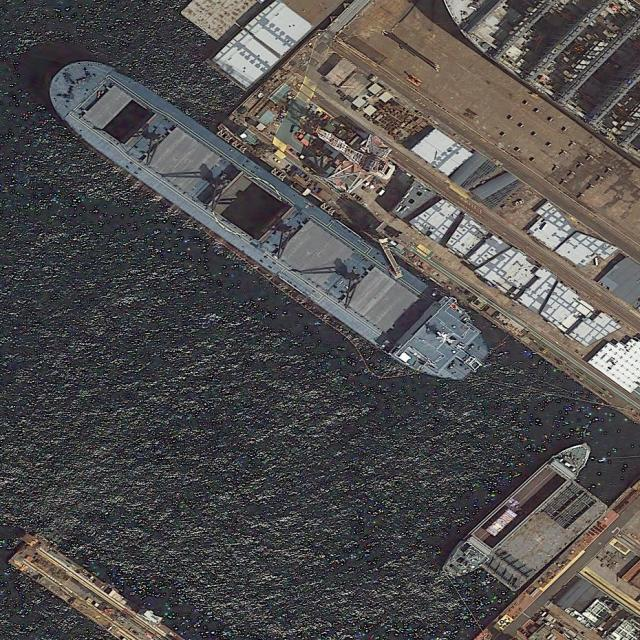Cargo: (32, 36, 504, 403), (433, 431, 601, 590)
